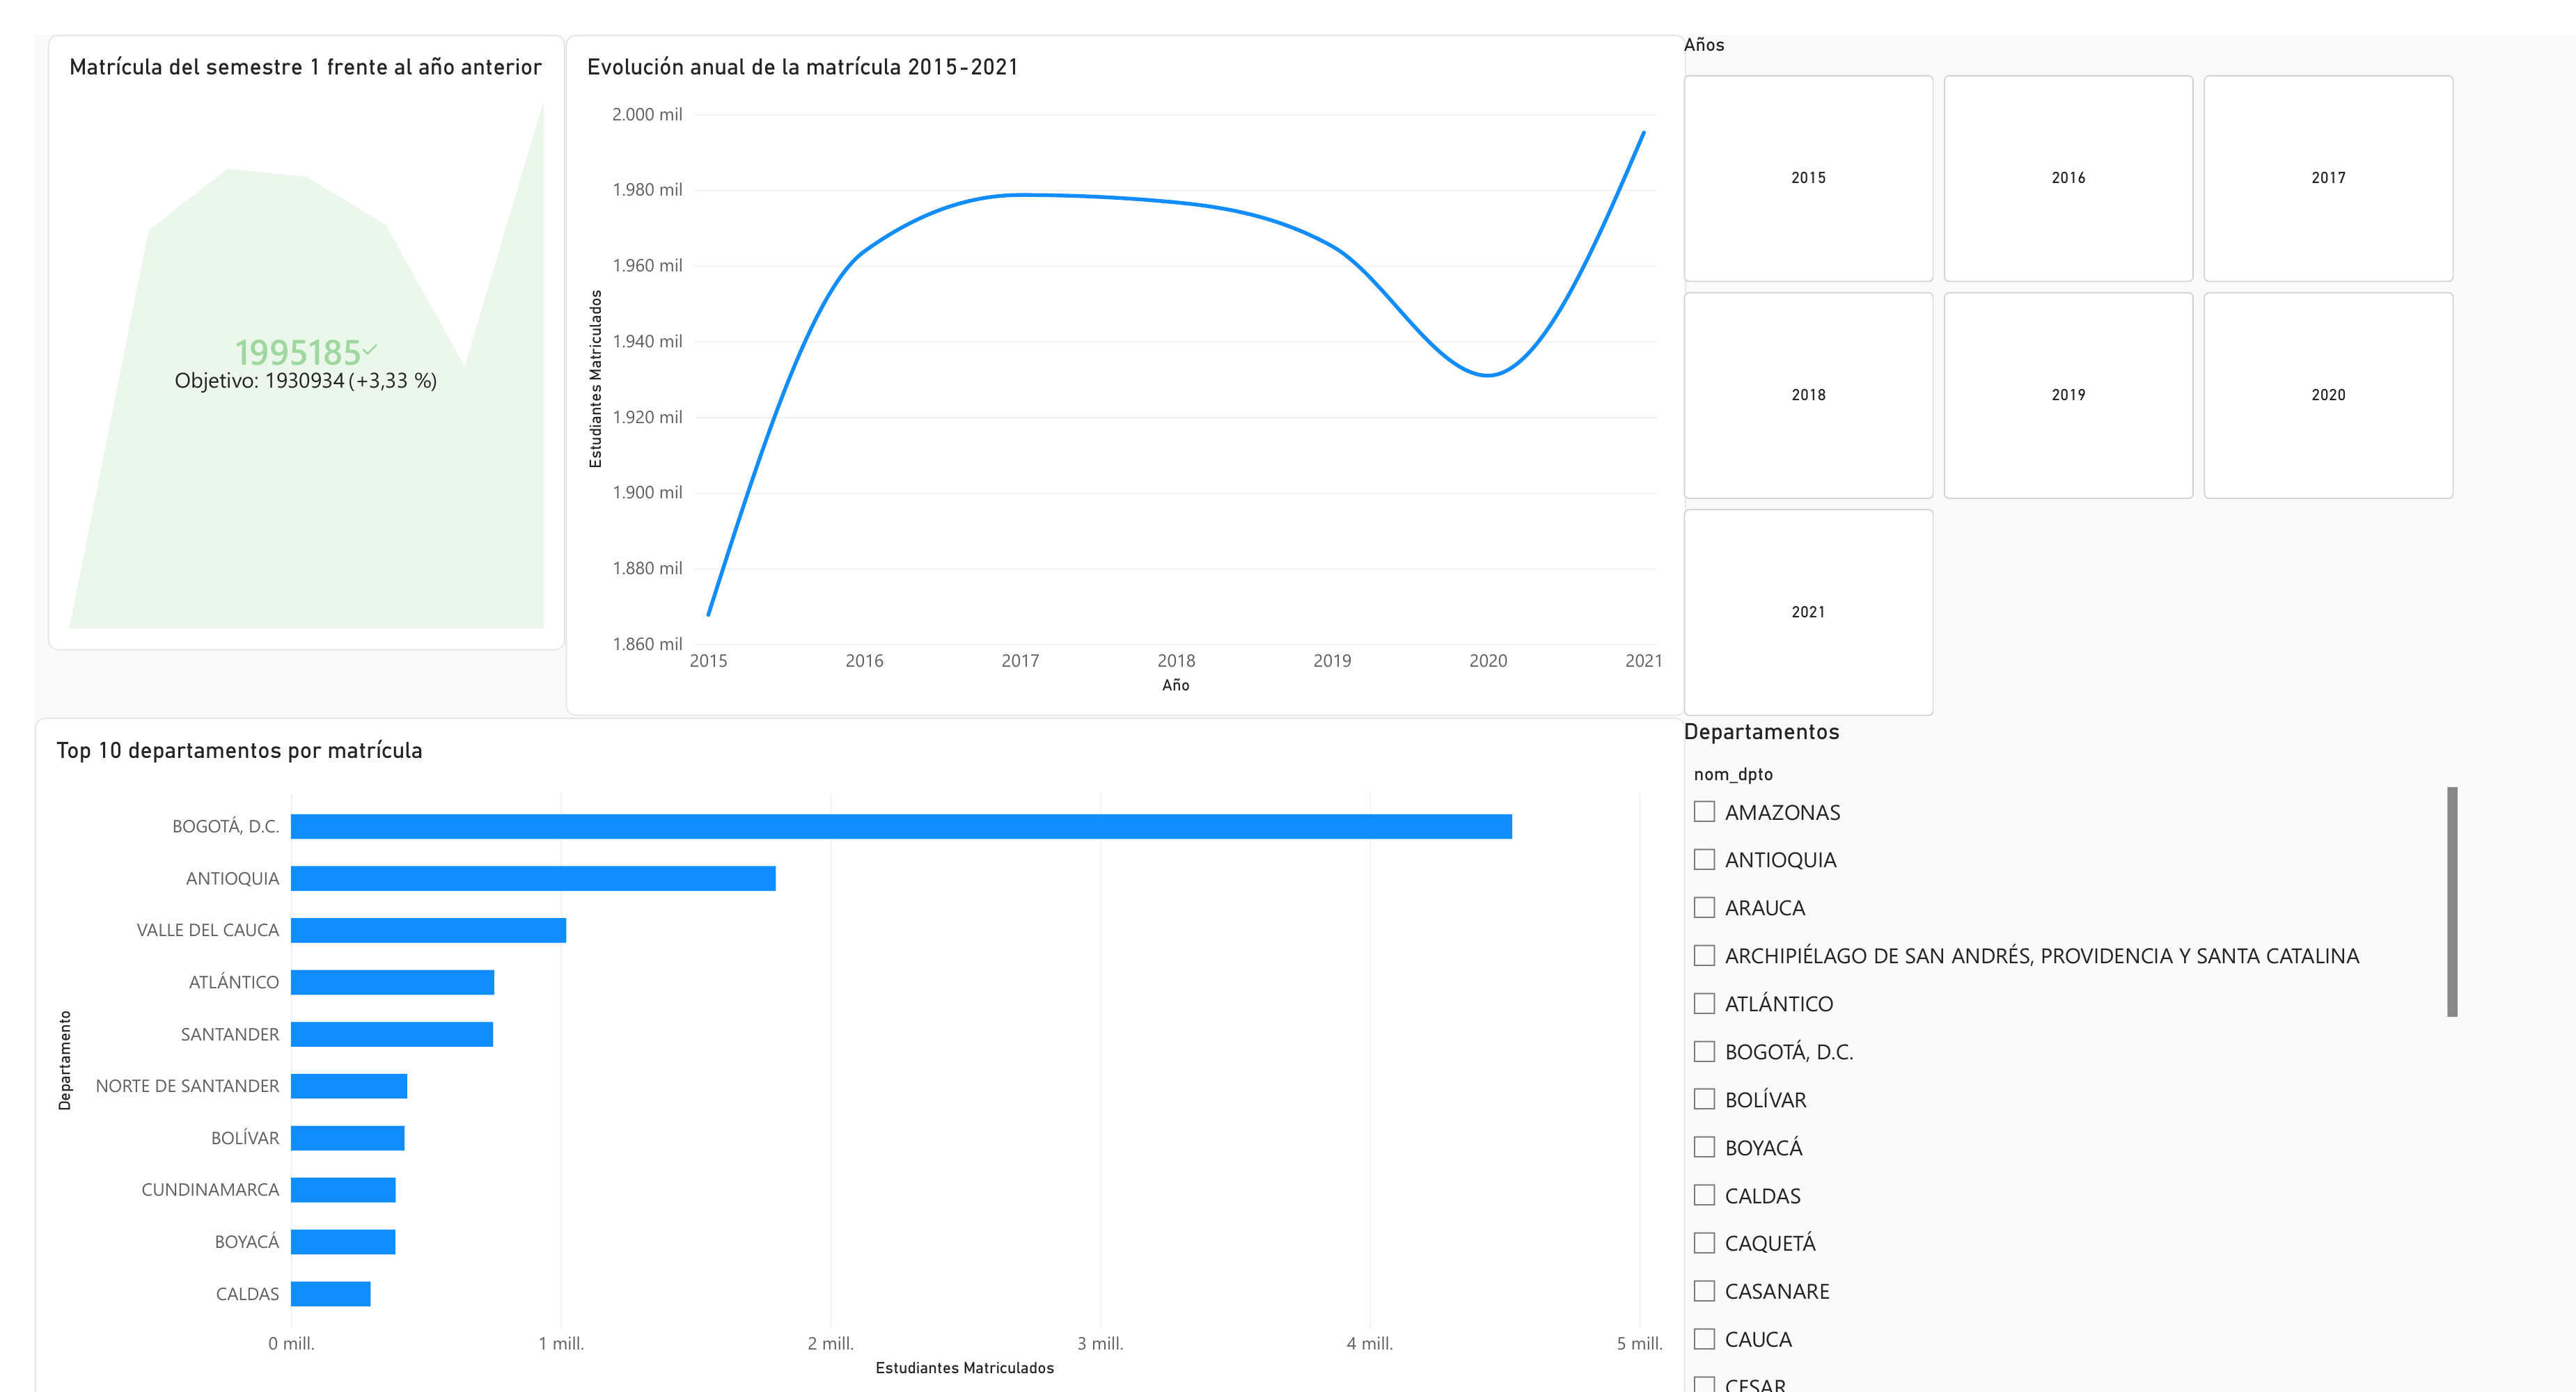

This screenshot's page, from the dashboard's own definition file:
{"tool":"powerbi","page":{"name":"Matricula","canvas":[1920,1080],"ordinal":0},"visuals":[{"type":"kpi","title":"Matrícula del semestre 1 frente al año anterior","fields":{"Goal":["fact_matricula.Matricula_S1_AnioAnt"],"Indicator":["fact_matricula.Matricula_S1"],"TrendLine":["dim_tiempo.anio"]},"box":[10,0,410,487.5],"z":0},{"type":"clusteredBarChart","title":"Top 10 departamentos por matrícula","fields":{"Category":["dim_geografia.nom_dpto"],"Y":["fact_matricula.Matricula_S1"]},"box":[0,540,1307.5,540],"z":1},{"type":"lineChart","title":"Evolución anual de la matrícula 2015-2021","fields":{"Category":["dim_tiempo.anio"],"Y":["fact_matricula.Matricula_S1"]},"box":[420,0,887.5,540],"z":2},{"type":"advancedSlicerVisual","title":"Años","fields":{"Values":["dim_tiempo.anio"]},"box":[1307.5,0,612.5,540],"z":3},{"type":"slicer","title":"Departamentos","fields":{"Values":["dim_geografia.nom_dpto"]},"box":[1307.5,540,612.5,540],"z":4}]}

Visuals, with their boxes on the page's 1920x1080 design canvas (x1, y1, x2, y2). These are canvas units, not pixel positions in the 2576x1392 screenshot, which may show the page scaled, cropped or inside an application window:
"Matrícula del semestre 1 frente al año anterior" kpi: 10:0:420:488
"Top 10 departamentos por matrícula" clusteredBarChart: 0:540:1308:1080
"Evolución anual de la matrícula 2015-2021" lineChart: 420:0:1308:540
"Años" advancedSlicerVisual: 1308:0:1920:540
"Departamentos" slicer: 1308:540:1920:1080
